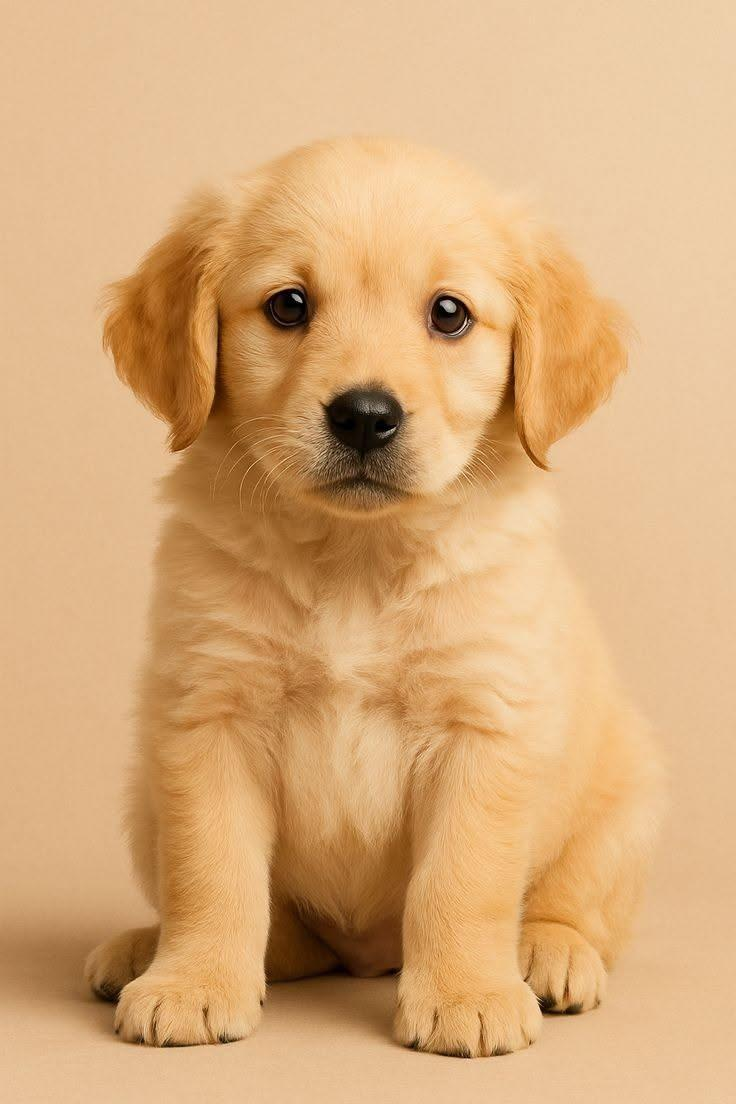puppy-dog: (79, 132, 665, 1062)
